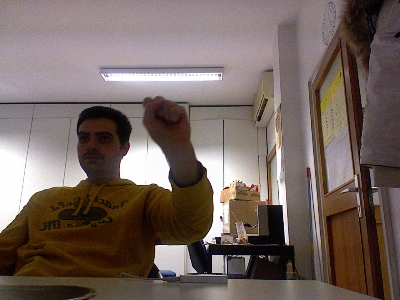石头: (140, 94, 191, 147)
